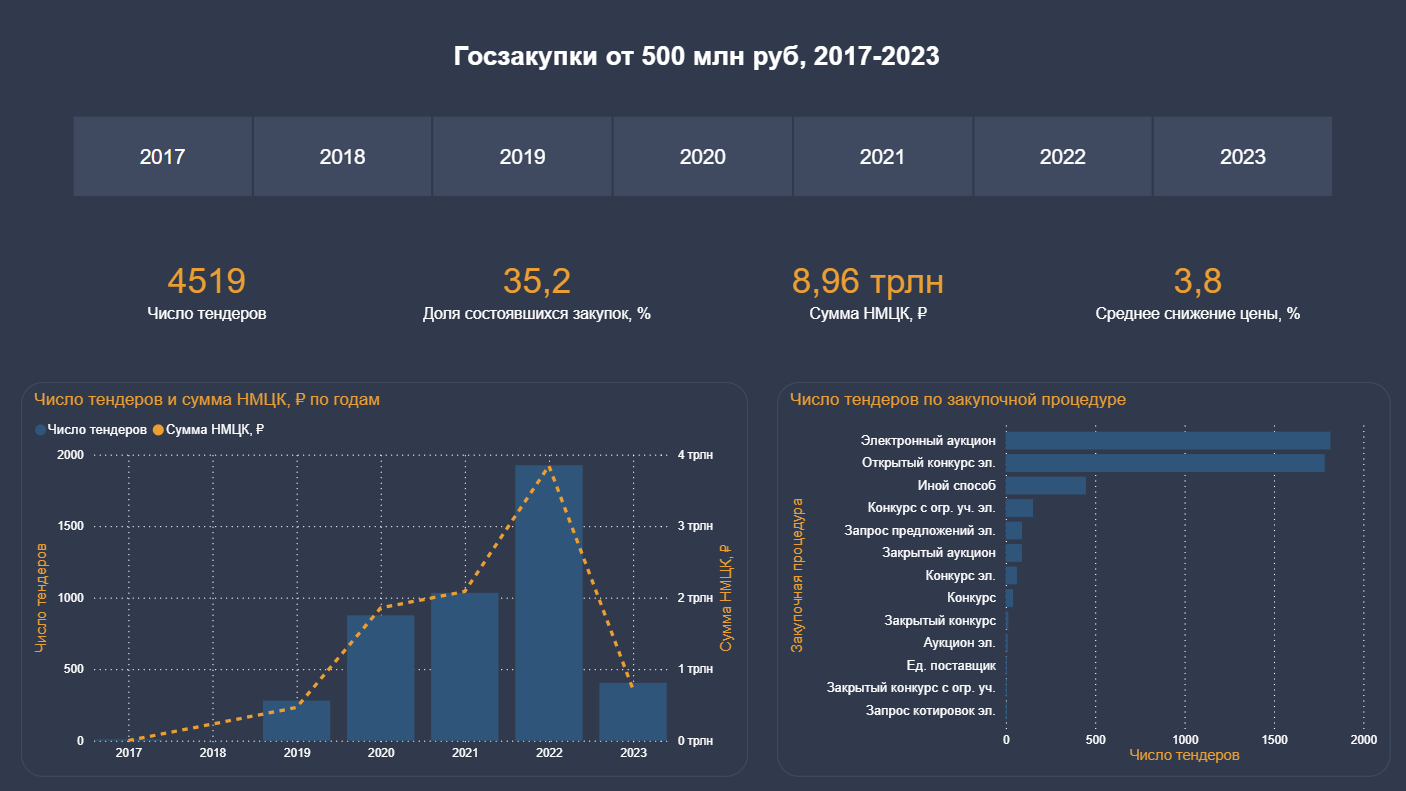

Layout of this report page (visuals, bound fields, positions):
{"tool":"powerbi","page":{"name":"Общий обзор","canvas":[1280,720],"ordinal":0},"visuals":[{"type":"slicer","fields":{"Values":["public dim_date.year"]},"box":[43,100,1194,86],"z":0},{"type":"card","fields":{"Values":["public fact_tenders.Tenders Count"]},"box":[40.3,195.3,300,134.9],"z":1000},{"type":"card","fields":{"Values":["public fact_tenders.Total Start Price"]},"box":[640.5,195.3,300.1,134.9],"z":2000},{"type":"card","fields":{"Values":["public fact_tenders.Completed Share %"]},"box":[340.3,195.3,300.1,134.9],"z":3000},{"type":"card","fields":{"Values":["public fact_tenders.Avg Discount %"]},"box":[940.6,195.3,300.1,134.9],"z":4000},{"type":"lineStackedColumnComboChart","title":"Число тендеров и сумма НМЦК, ₽ по годам","fields":{"Y":["public fact_tenders.Tenders Count"],"Y2":["public fact_tenders.Total Start Price"],"Category":["public dim_date.year","public dim_date.year_month"]},"box":[21,348,661,359],"z":5000},{"type":"clusteredBarChart","title":"Число тендеров по закупочной процедуре","fields":{"Y":["public fact_tenders.Tenders Count"],"Category":["public fact_tenders.procedure_short"]},"box":[708,348,558,359],"z":6000},{"type":"textbox","box":[409,33,461,45],"z":7000}]}

Visuals, with their boxes in screenshot pixels (x1, y1, x2, y2), scaled from the page's 1280x720 canvas onto the 1406x791 screenshot:
slicer - public dim_date.year: l=47, t=110, r=1359, b=204
card - public fact_tenders.Tenders Count: l=44, t=215, r=374, b=363
card - public fact_tenders.Total Start Price: l=704, t=215, r=1033, b=363
card - public fact_tenders.Completed Share %: l=374, t=215, r=703, b=363
card - public fact_tenders.Avg Discount %: l=1033, t=215, r=1363, b=363
"Число тендеров и сумма НМЦК, ₽ по годам" lineStackedColumnComboChart: l=23, t=382, r=749, b=777
"Число тендеров по закупочной процедуре" clusteredBarChart: l=778, t=382, r=1391, b=777
textbox: l=449, t=36, r=956, b=86
